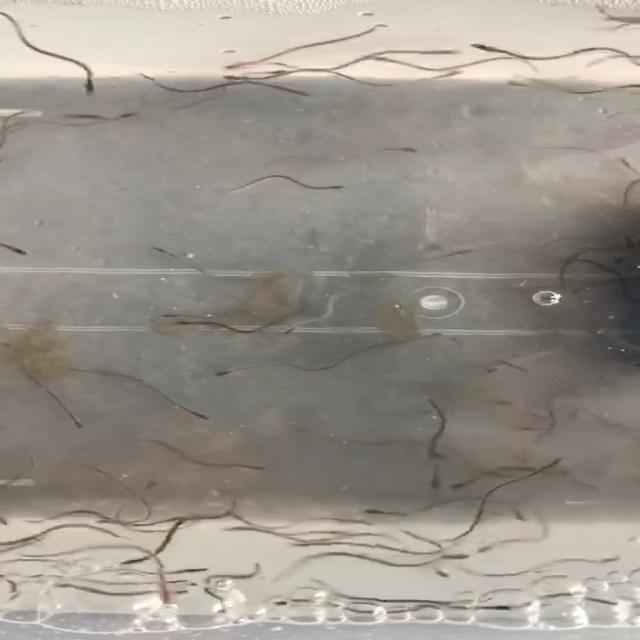active_glass_eel: (74, 73, 112, 98), (434, 476, 480, 494), (468, 39, 511, 56), (357, 506, 407, 520), (67, 110, 115, 124), (218, 56, 266, 70), (55, 414, 90, 433), (496, 77, 540, 92), (266, 595, 310, 610), (152, 583, 195, 598), (418, 470, 448, 491), (95, 512, 129, 530), (442, 245, 480, 261), (361, 52, 401, 67), (175, 406, 215, 421), (607, 247, 637, 267), (445, 589, 480, 606), (490, 354, 527, 370), (163, 572, 200, 588), (592, 552, 626, 569), (220, 522, 258, 537), (234, 459, 274, 473), (283, 86, 322, 100), (114, 109, 144, 127), (384, 144, 422, 157), (144, 245, 182, 258), (136, 473, 162, 492), (614, 227, 640, 246), (469, 542, 499, 558), (173, 564, 212, 576), (487, 395, 522, 408), (117, 554, 149, 568), (430, 46, 464, 59), (512, 421, 542, 435), (428, 565, 456, 580), (86, 505, 114, 520), (211, 364, 243, 377), (484, 362, 511, 377), (1, 245, 32, 258), (149, 308, 182, 320), (285, 539, 321, 550), (172, 316, 200, 330), (483, 599, 512, 612), (218, 72, 252, 83), (260, 64, 290, 76), (435, 69, 465, 81), (346, 514, 372, 527), (317, 182, 350, 192), (48, 581, 78, 592), (508, 509, 528, 523), (0, 515, 19, 529), (281, 323, 301, 336)
